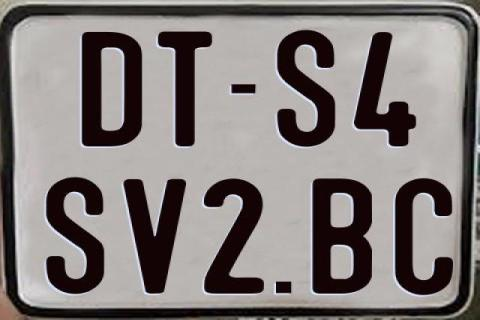0: (203, 177, 267, 293), (351, 30, 414, 146)
B: (311, 178, 375, 294)
C: (394, 176, 452, 298)
D: (80, 31, 140, 148)
S: (276, 28, 340, 148), (45, 177, 106, 296)
T: (158, 31, 218, 148)
V: (122, 177, 190, 293)
